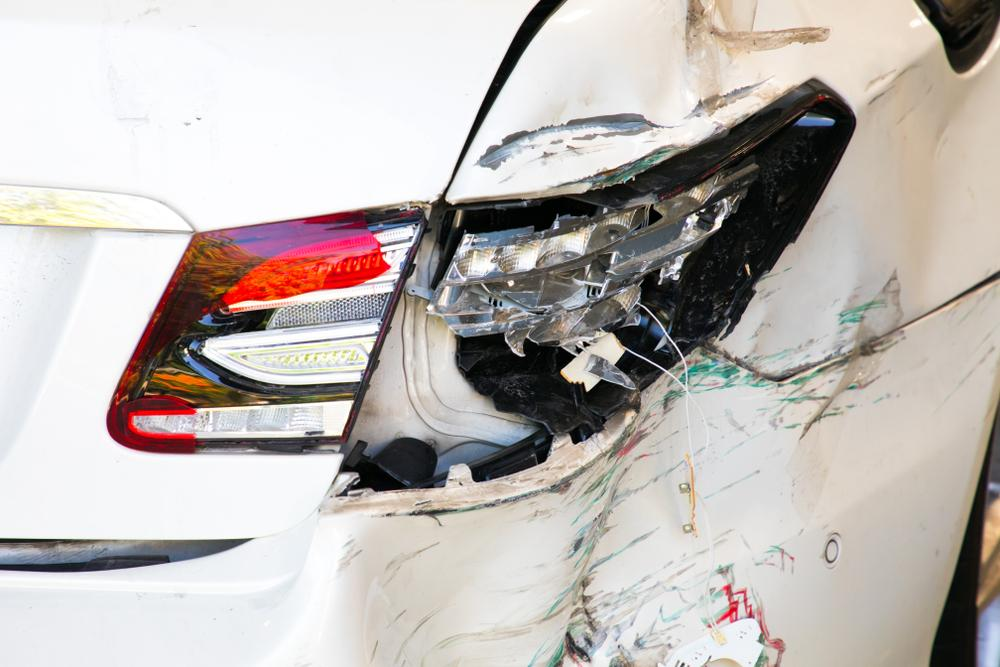dent: (341, 325, 936, 667), (724, 49, 980, 372), (474, 1, 801, 195)
lamp broken: (111, 81, 857, 499)
